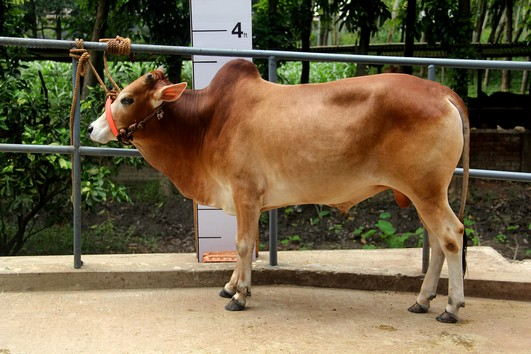cow: (84, 56, 473, 329)
